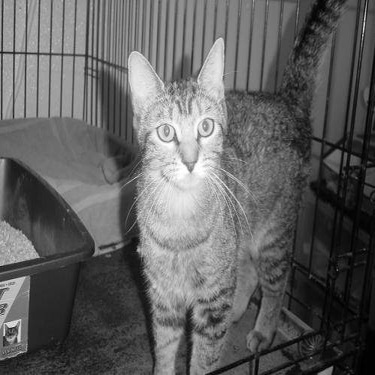cat: (123, 1, 351, 368)
